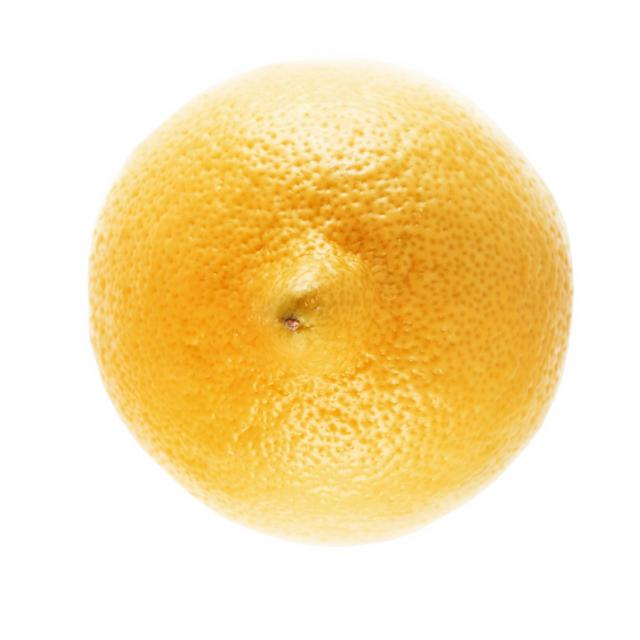lemon: (77, 51, 583, 556)
